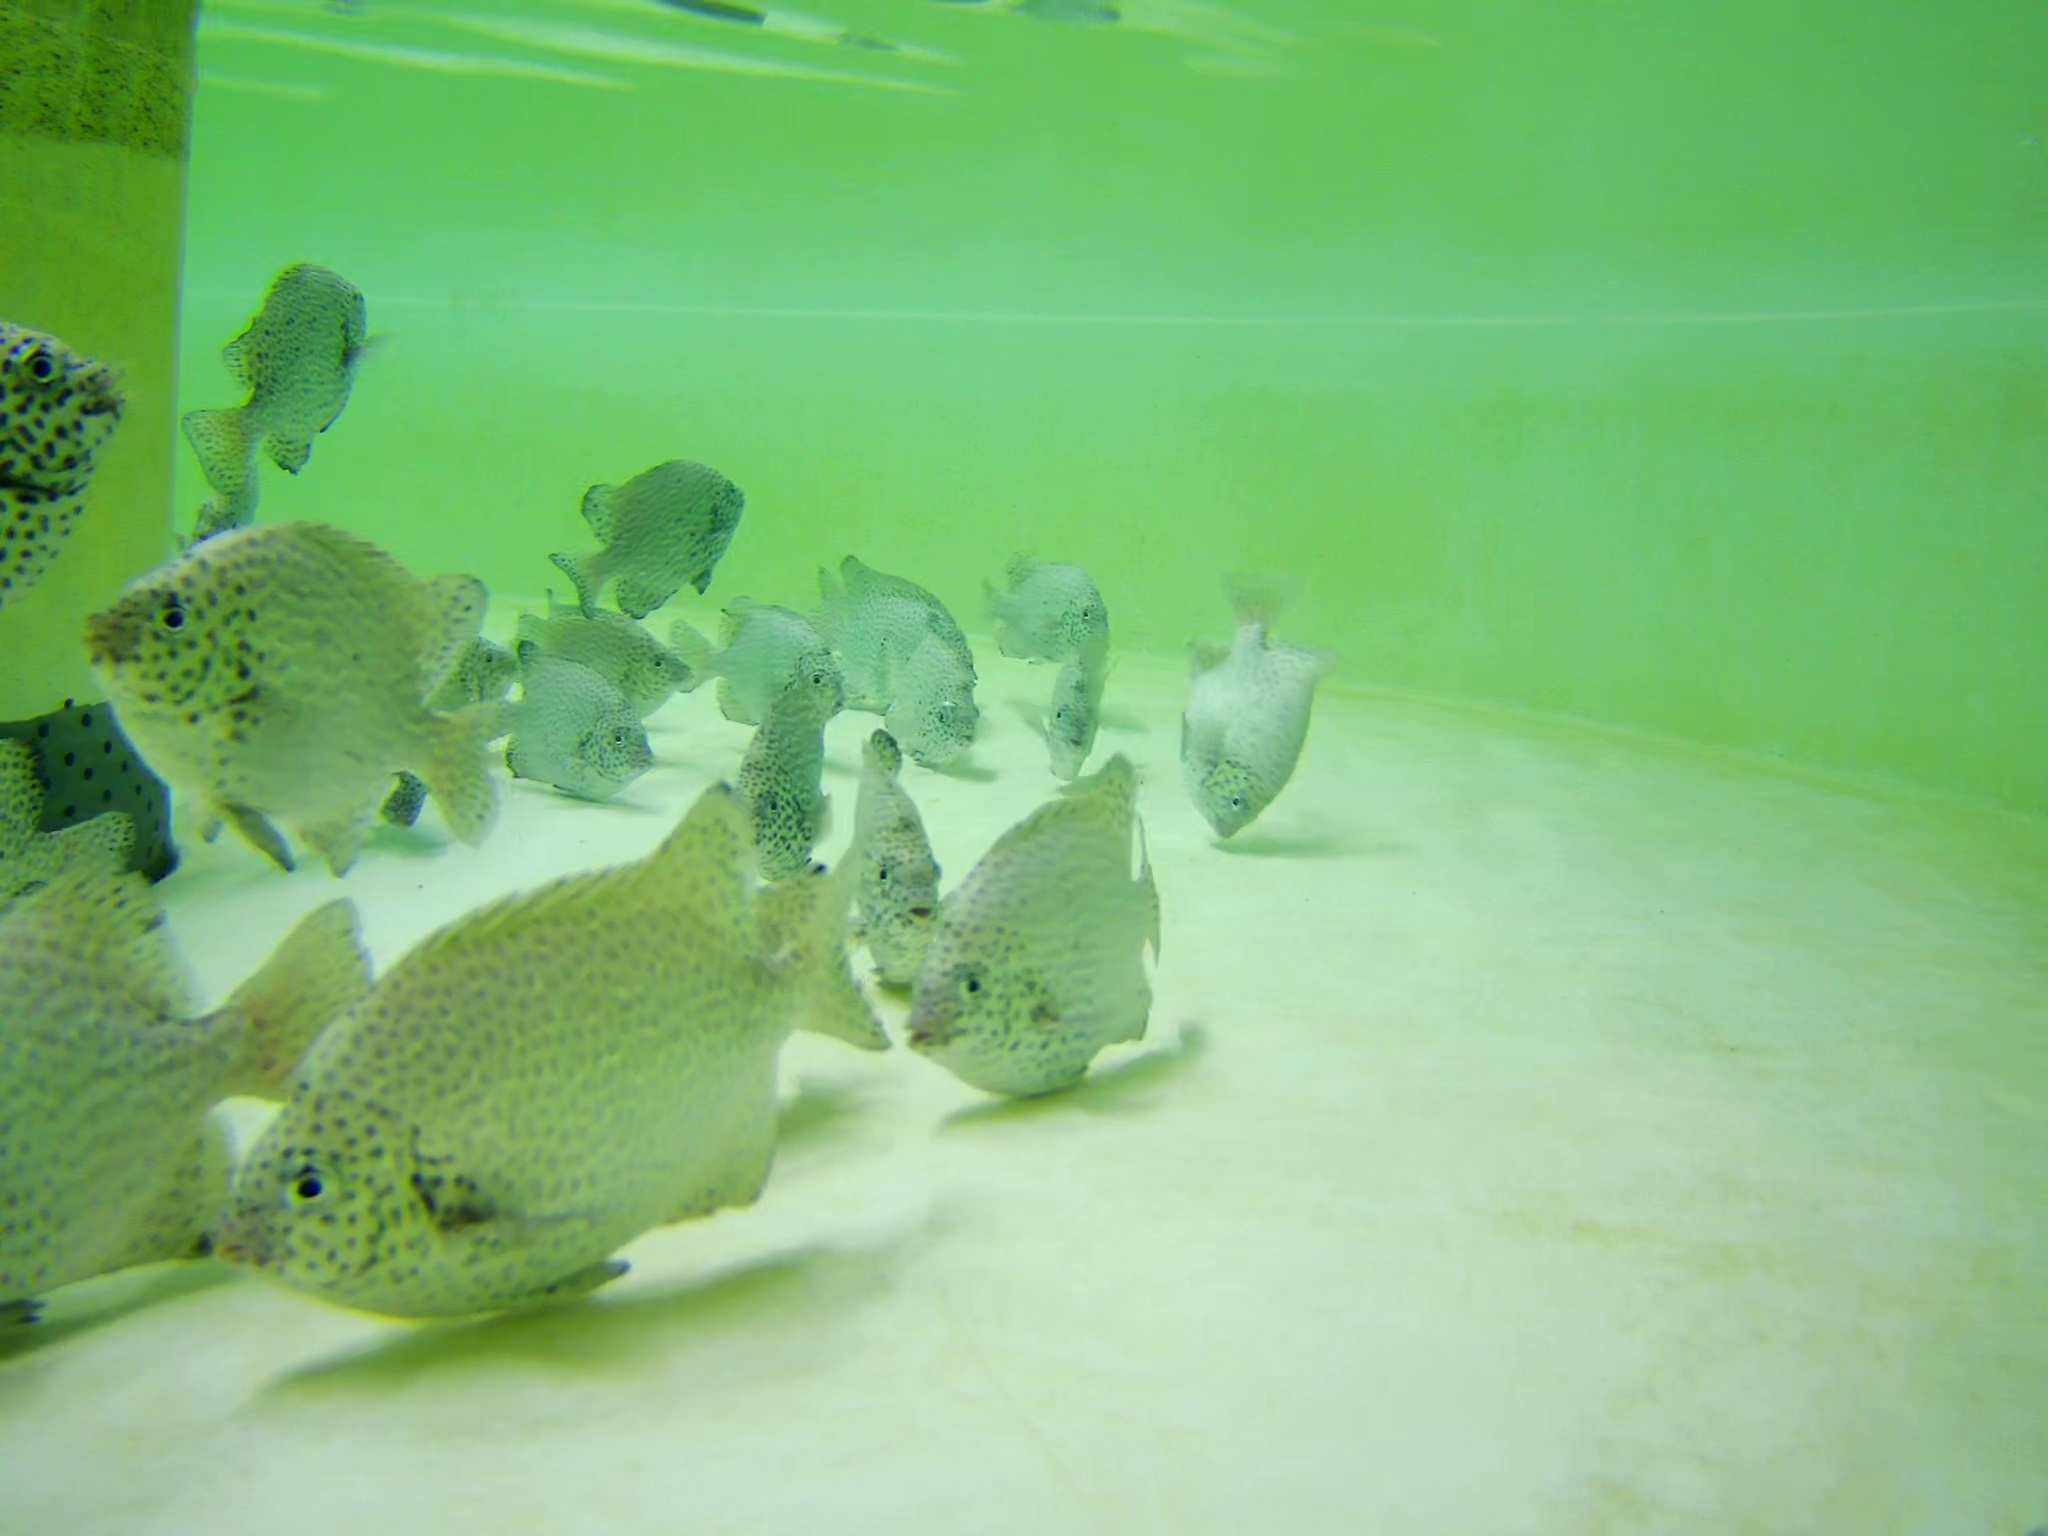fish: (218, 783, 897, 1307), (2, 850, 402, 1297), (68, 539, 522, 857), (914, 755, 1185, 1125), (164, 257, 395, 511), (2, 315, 129, 639), (1182, 558, 1329, 836), (552, 442, 755, 615), (843, 721, 943, 1000), (743, 652, 858, 886), (2, 716, 129, 921), (492, 599, 685, 731), (503, 645, 653, 803), (660, 607, 837, 726), (810, 552, 974, 673), (990, 537, 1114, 660), (889, 632, 993, 768), (1019, 634, 1111, 779), (369, 634, 532, 713)
